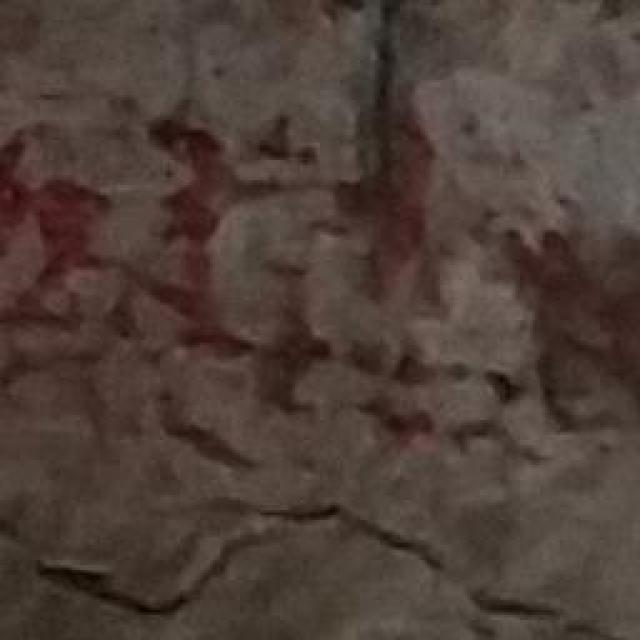Transverse: (22, 471, 640, 640)
